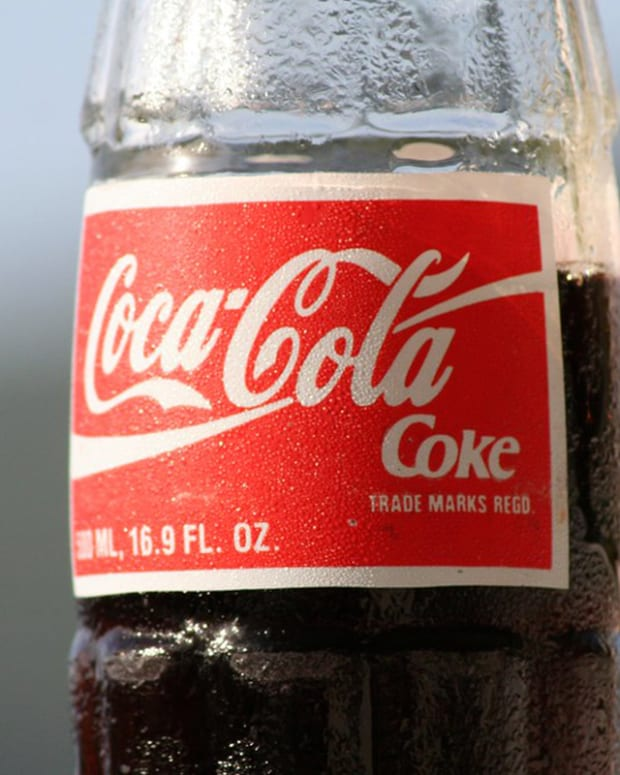Coca-Cola: (76, 9, 616, 765)
